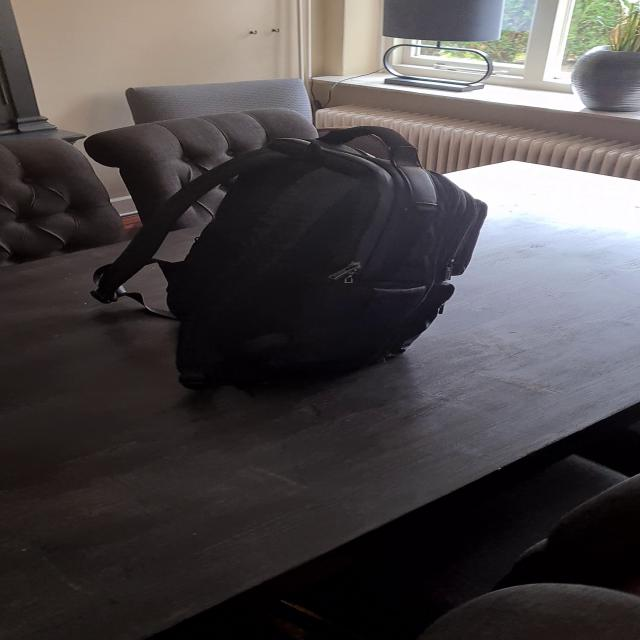backpack: (94, 124, 490, 400)
